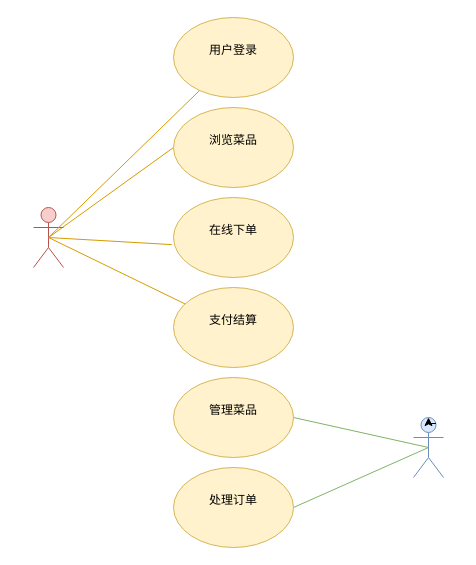
The diagram is 476 pixels wide and 565 high, and some of its shapes have lost their labels. The shapes that lost their labels are listed below. From the top down, each one's centre as x and y in pixels, then its label:
point (48, 237): 学生/教职工
point (428, 447): 食堂管理员
